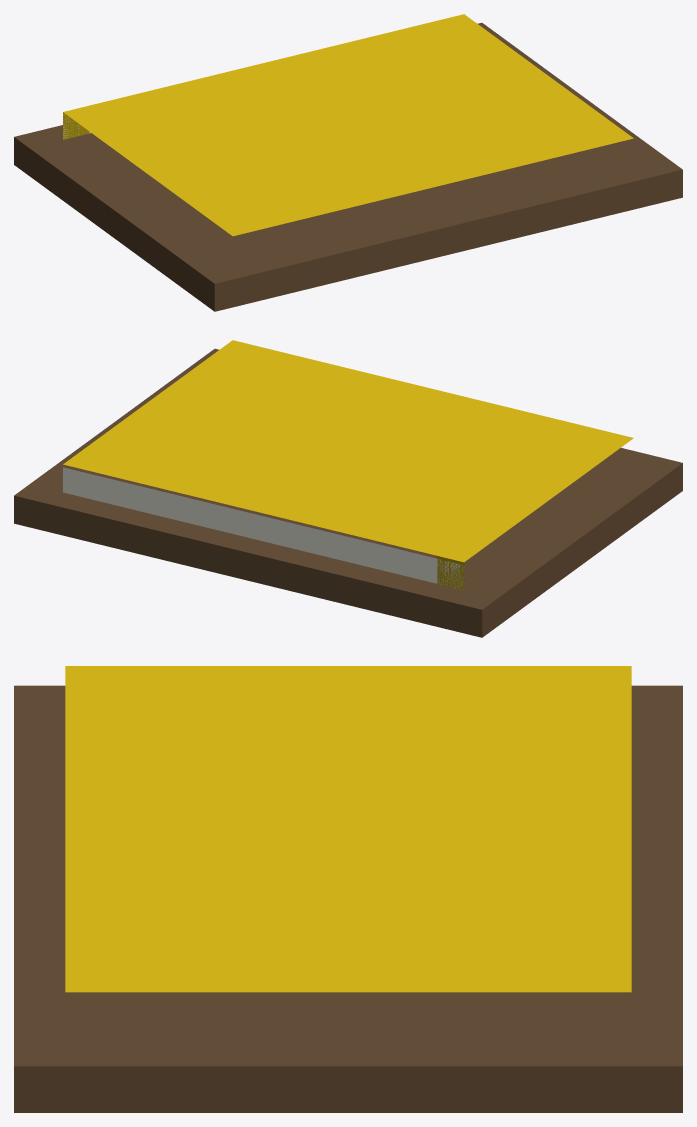
Rendered from agile-book.obj.
The picture shows the model from 3 angles, top to bottom: view 1: azimuth 30°, elevation 25°; view 2: azimuth 150°, elevation 25°; view 3: azimuth 270°, elevation 25°; orthographic projection. The views are drawn at different scales.
Visible parts, largest first — view 1: BookCover, Stand; view 2: BookCover, Stand, BookPages, BookSpine; view 3: BookCover, Stand.
Boxes of the visible parts, box(x1,y1,x2,y2) form: BookCover: box(63, 14, 633, 236); Stand: box(14, 22, 682, 311); BookCover: box(63, 340, 633, 562); Stand: box(14, 348, 682, 637); BookPages: box(63, 467, 464, 589); BookSpine: box(437, 556, 464, 590); BookCover: box(65, 666, 631, 992); Stand: box(14, 685, 682, 1112).
Size of the model in its own units: 0.35 by 0.04 by 0.26.
